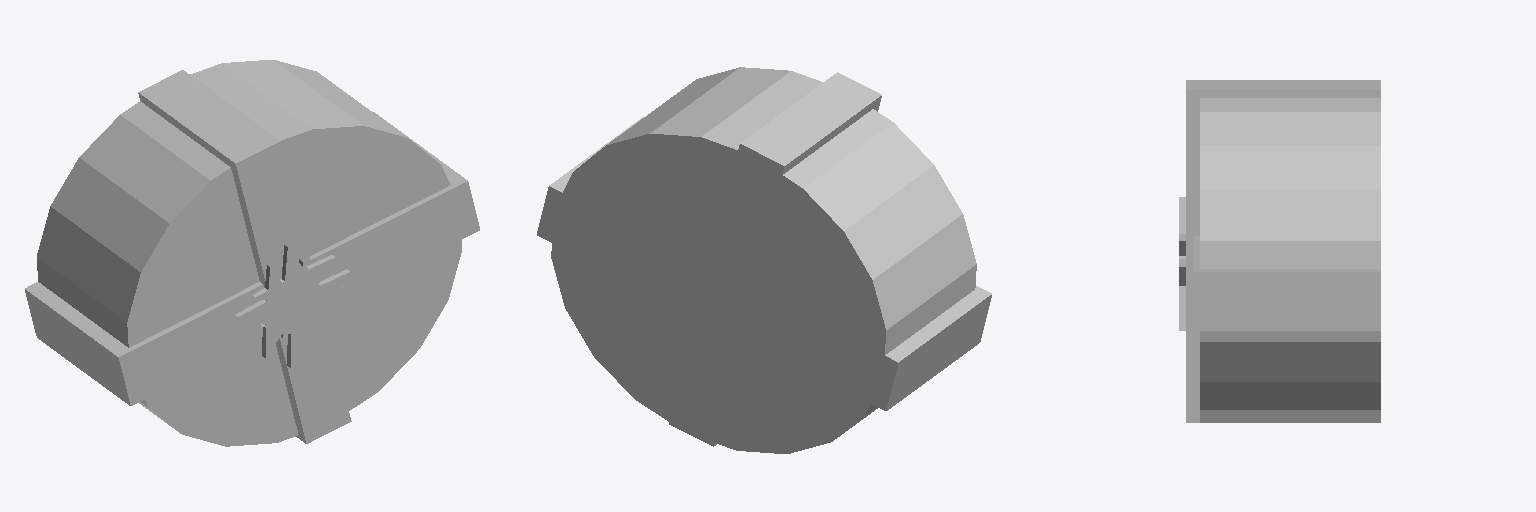
The model's file is present5.obj.
The picture shows the model from 3 angles: view 1: azimuth 30°, elevation 25°; view 2: azimuth 150°, elevation 25°; view 3: azimuth 270°, elevation 25°; orthographic projection.
Visible parts, largest first — view 1: obj_0; view 2: obj_0; view 3: obj_0.
Boxes of the visible parts, x1=… form: obj_0: x1=25, y1=60, x2=479, y2=446; obj_0: x1=537, y1=67, x2=991, y2=453; obj_0: x1=1179, y1=80, x2=1380, y2=422.
Bounding box in the file's own units: 35.17 × 28.74 × 17.